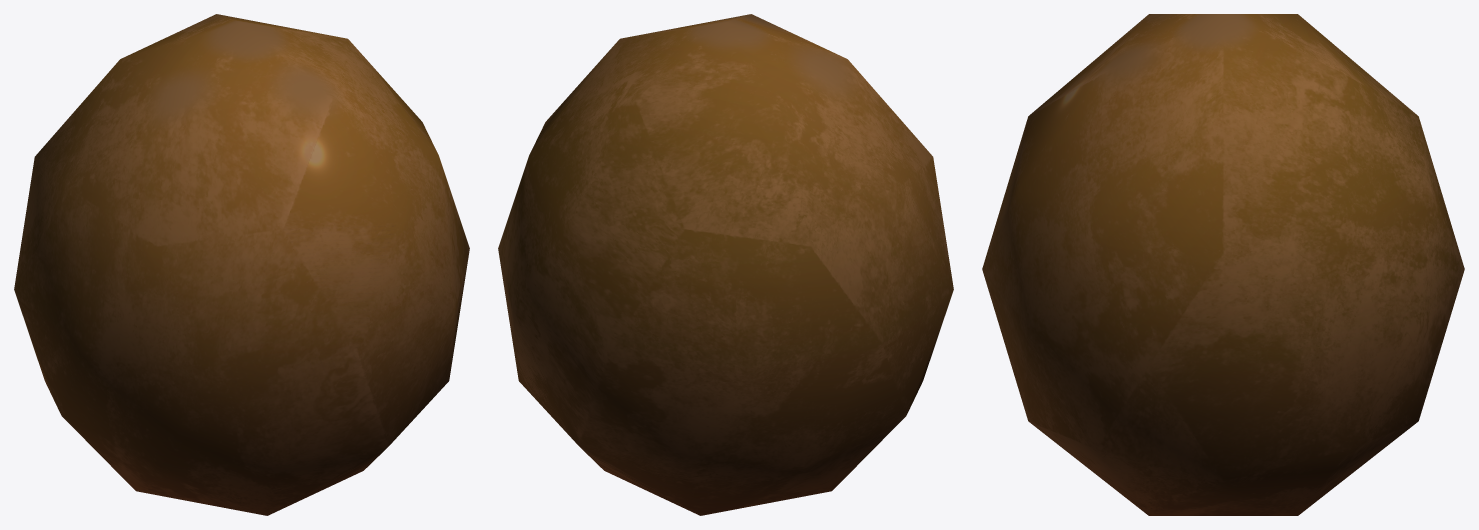
Rendered from Coconut_01.fbx.
3 views of the same model, side by side, from view 1: azimuth 30°, elevation 25°; view 2: azimuth 150°, elevation 25°; view 3: azimuth 270°, elevation 25° (orthographic). The views are drawn at different scales.
Parts seen in each view (by area): view 1: Coconut_01; view 2: Coconut_01; view 3: Coconut_01.
Part boxes in pixels (box(x1,y1,x2,y2)): Coconut_01: box(14, 14, 469, 515); Coconut_01: box(498, 14, 953, 515); Coconut_01: box(982, 14, 1464, 515).
Size of the model in its own units: 11.7 by 13.92 by 12.3.
Materials: 1 (1 with a texture image).
